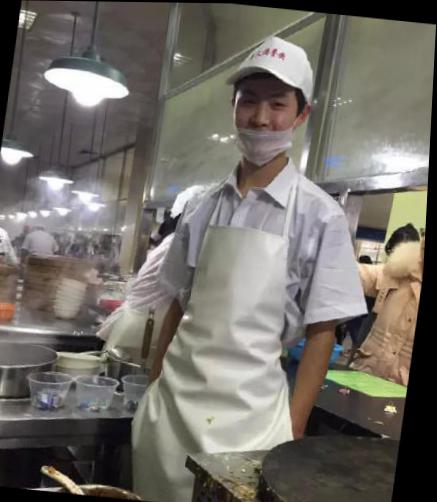WRONG: (229, 80, 308, 159)
